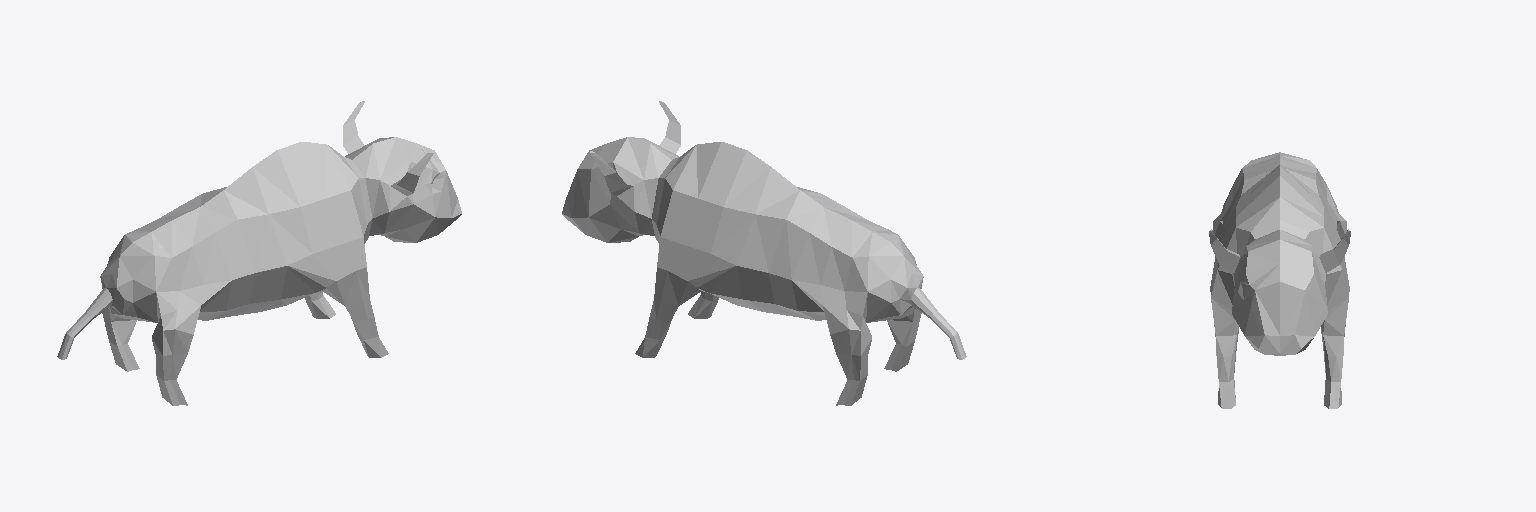
The model's file is buffalo.obj.
3 views of the same model, side by side, from view 1: azimuth 30°, elevation 25°; view 2: azimuth 150°, elevation 25°; view 3: azimuth 270°, elevation 25° (orthographic).
Visible parts, largest first — view 1: buffalo; view 2: buffalo; view 3: buffalo.
Part boxes in pixels (left/top/right/bottom): buffalo: left=57, top=101, right=461, bottom=405; buffalo: left=562, top=101, right=966, bottom=405; buffalo: left=1209, top=152, right=1350, bottom=408.
Bounding box in the file's own units: 8.57 × 4.28 × 2.68.